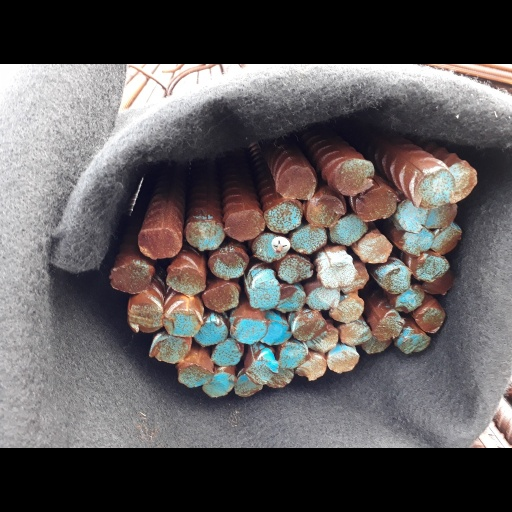dipstick: (109, 263, 153, 294), (355, 187, 395, 220), (277, 167, 316, 199), (419, 170, 453, 206), (225, 210, 264, 241), (137, 229, 180, 257), (336, 159, 371, 193), (187, 221, 224, 251), (265, 202, 299, 232), (307, 196, 343, 224), (168, 269, 206, 295), (454, 159, 477, 201), (129, 304, 163, 332), (209, 254, 247, 279), (152, 337, 188, 363), (205, 285, 239, 312), (165, 310, 200, 336), (331, 219, 367, 244), (321, 259, 354, 286), (359, 234, 390, 262), (293, 227, 326, 253), (294, 314, 327, 340), (398, 202, 427, 231), (247, 356, 278, 383), (233, 318, 266, 343), (250, 281, 279, 309), (279, 258, 312, 282), (254, 236, 285, 261), (213, 340, 242, 366), (434, 228, 461, 255), (400, 231, 433, 253), (329, 350, 359, 374), (428, 205, 459, 228), (201, 320, 228, 346), (416, 308, 444, 333), (205, 374, 234, 398), (179, 364, 212, 385), (307, 288, 339, 309), (280, 345, 309, 368), (417, 258, 450, 278), (281, 287, 306, 313), (374, 315, 402, 338), (385, 267, 410, 292), (266, 320, 291, 345), (298, 358, 326, 380), (396, 289, 422, 312), (338, 299, 364, 322), (310, 331, 338, 352), (341, 325, 371, 344), (236, 377, 262, 398), (400, 335, 430, 353), (352, 262, 368, 291), (269, 369, 294, 387), (423, 280, 452, 295), (362, 340, 391, 353)
